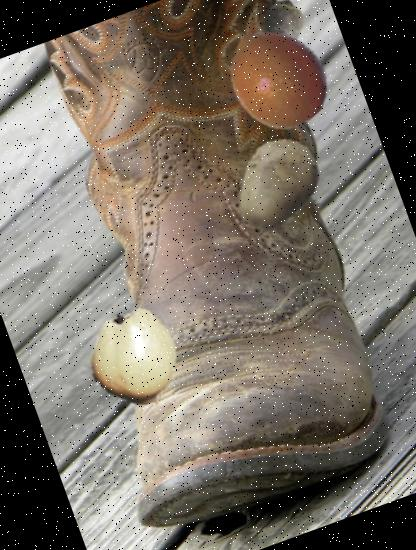Beetroot: (238, 0, 329, 75)
Potato: (215, 122, 342, 248)
Quince: (70, 294, 197, 422)
Tangelo: (208, 8, 346, 146)
